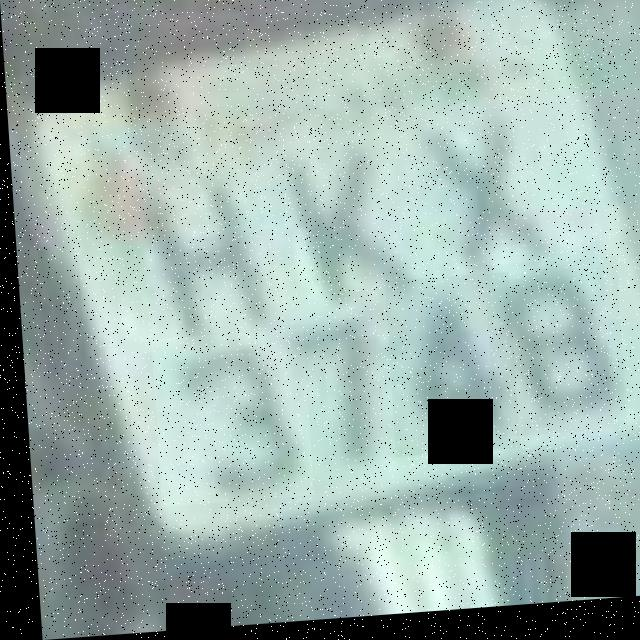3: (146, 333, 307, 509)
4: (380, 280, 513, 463)
7: (269, 311, 394, 481)
8: (480, 265, 621, 445)
H: (137, 150, 263, 361)
X: (402, 101, 556, 289)
